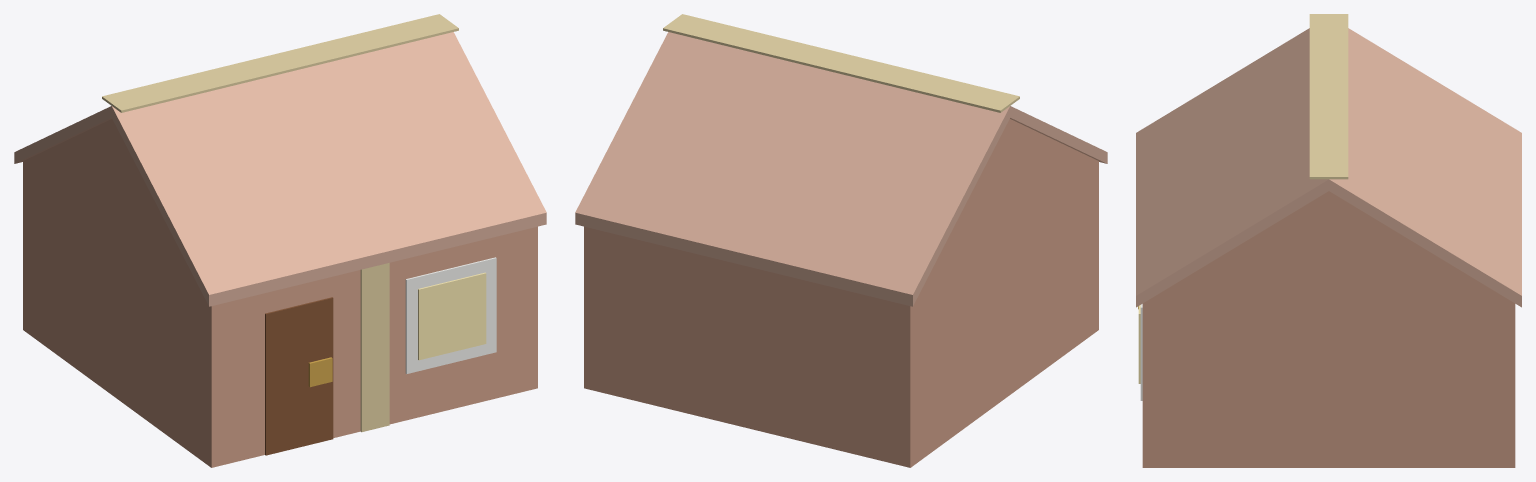
File: rental_garret.glb
3 renders of one model, left to right at view 1: azimuth 30°, elevation 25°; view 2: azimuth 150°, elevation 25°; view 3: azimuth 270°, elevation 25°, orthographic.
Parts seen in each view (by area): view 1: rental_garret_Body; view 2: rental_garret_Body; view 3: rental_garret_Body.
Boxes of the visible parts, x1,y1,x2,y2 form: rental_garret_Body: (14, 14, 546, 467); rental_garret_Body: (575, 14, 1107, 467); rental_garret_Body: (1136, 14, 1521, 467).
Size of the model in its own units: 0.6 by 0.504 by 0.6.
